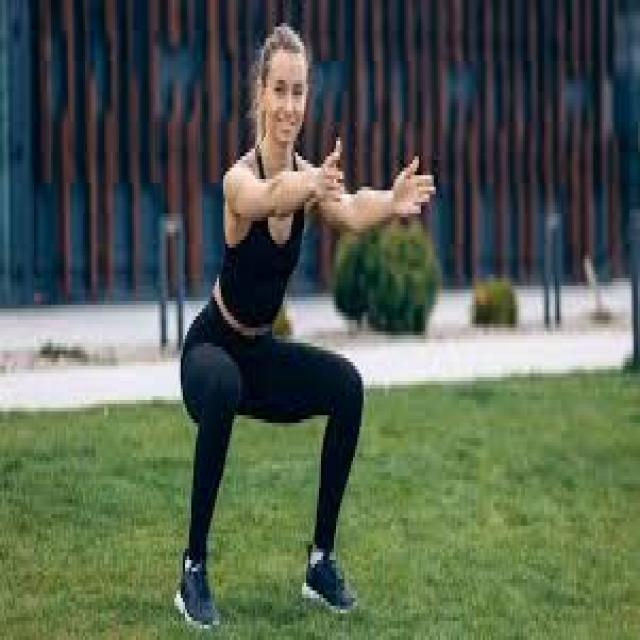squat: (172, 21, 437, 633)
